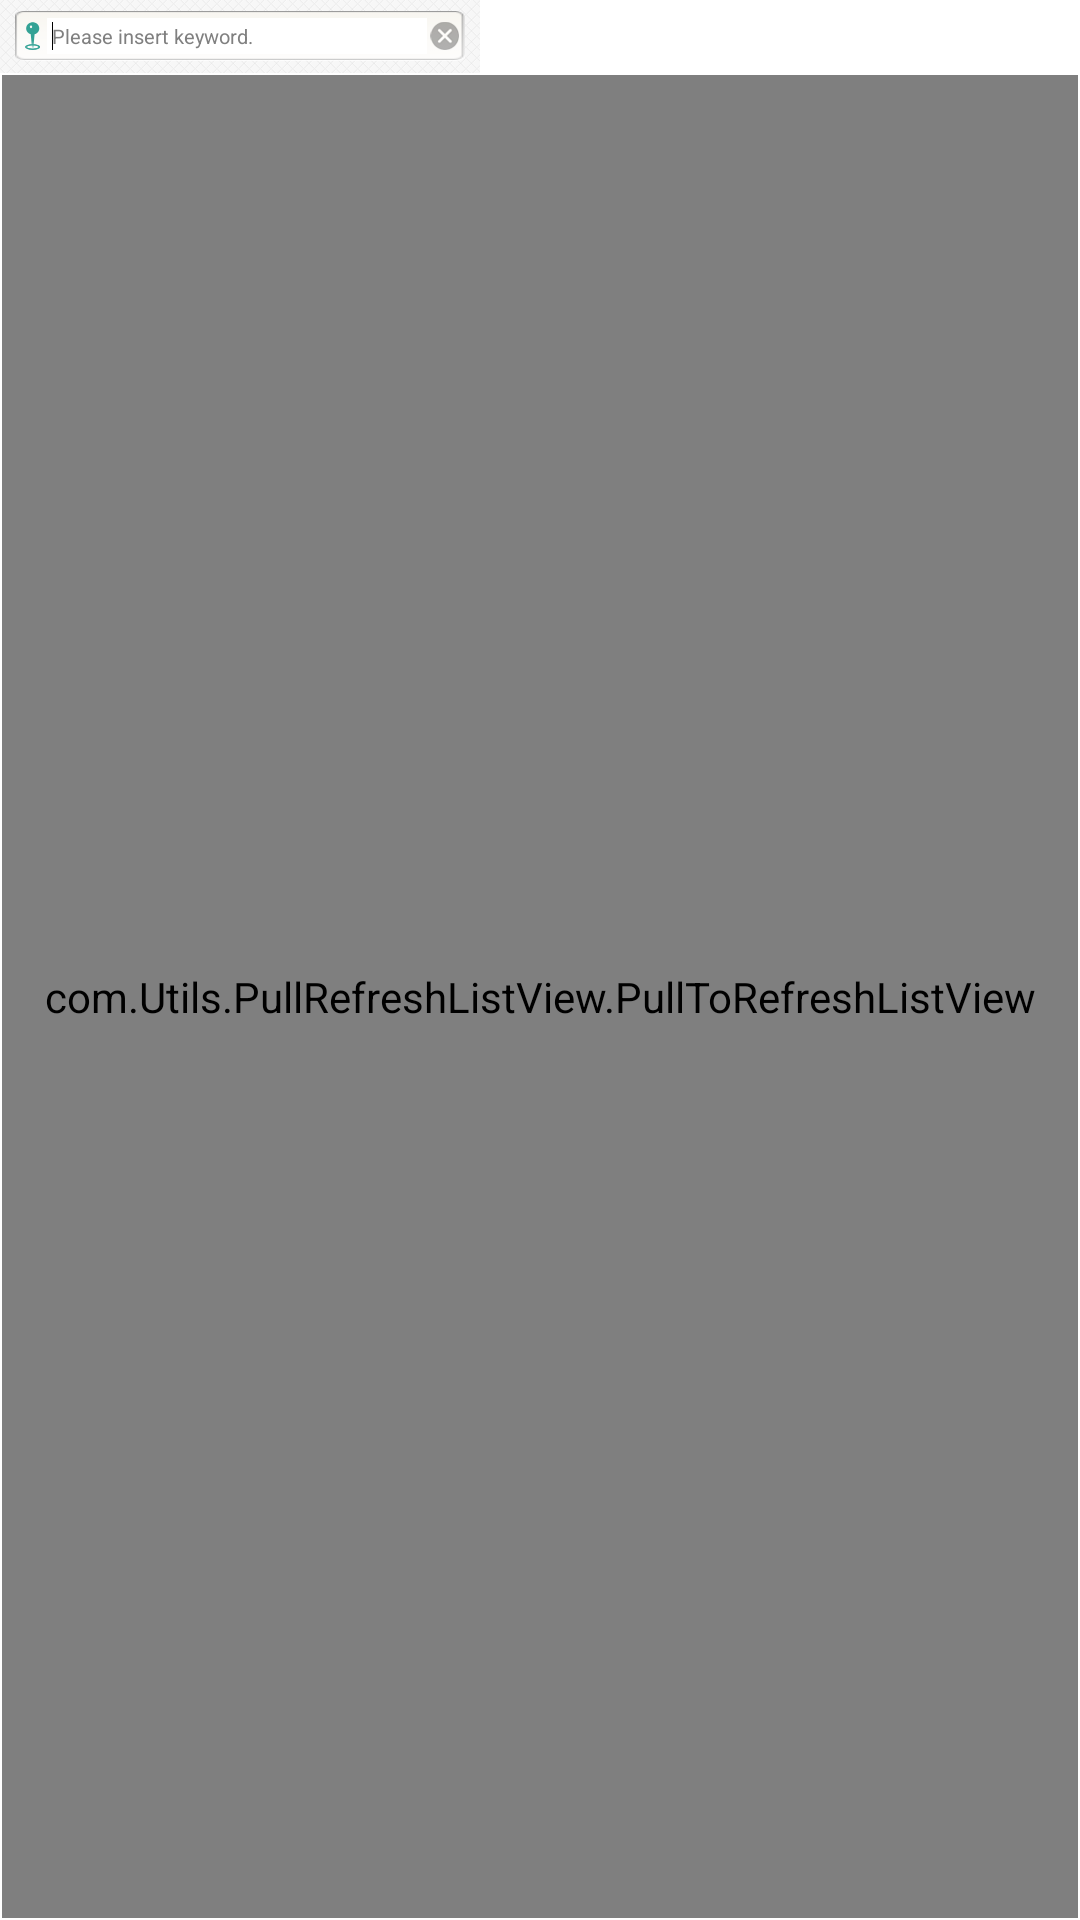

Point at icon controls on the screen. Image size 1080x1920, points as point (x, y).
cancelmark: point (444, 36)
